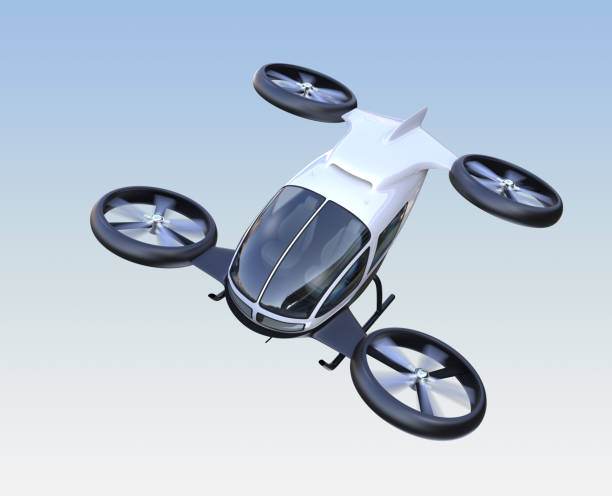Drone: (85, 59, 567, 448)
